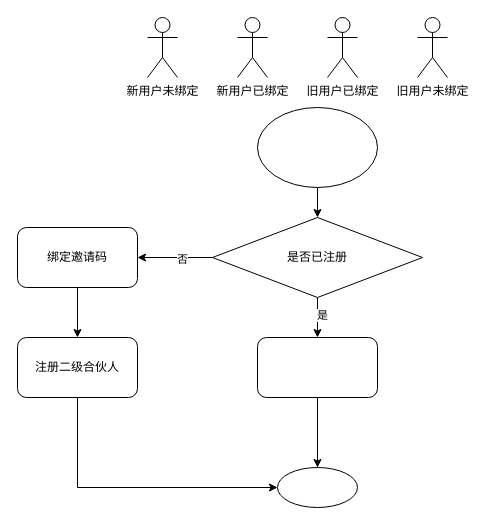
The diagram is 486 pixels wide and 525 high, and some of its shapes have lost their labels. Here are the shapes that lost their labels. From the top down, the centre of each, then its label:
(317,147): 扫父级邀请码进入
(317,367): 不绑定
(317,487): 结束绑定
